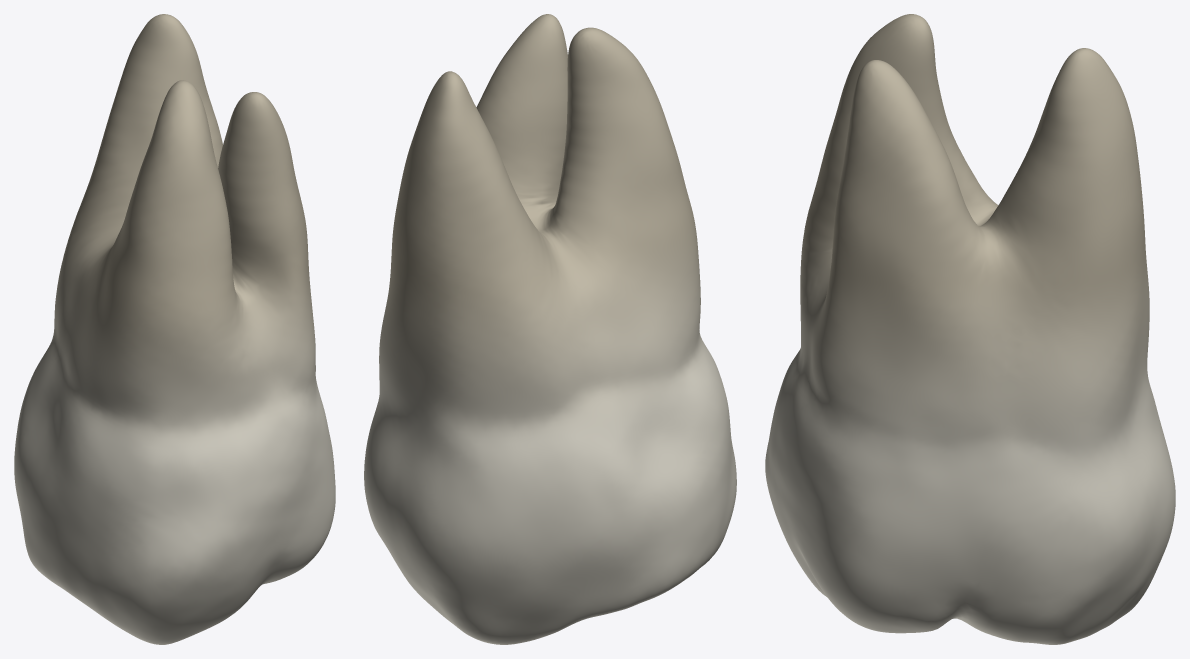
The picture shows the model from 3 angles, left to right: view 1: azimuth 30°, elevation 25°; view 2: azimuth 150°, elevation 25°; view 3: azimuth 270°, elevation 25°; orthographic projection. The views are drawn at different scales.
Visible parts, largest first — view 1: Tooth_28_0; view 2: Tooth_28_0; view 3: Tooth_28_0.
Part boxes in pixels (box(x1,y1,x2,y2)): Tooth_28_0: box(14, 14, 335, 644); Tooth_28_0: box(364, 14, 736, 644); Tooth_28_0: box(765, 14, 1175, 644).
Size of the model in its own units: 1.05 by 1.94 by 1.2.
